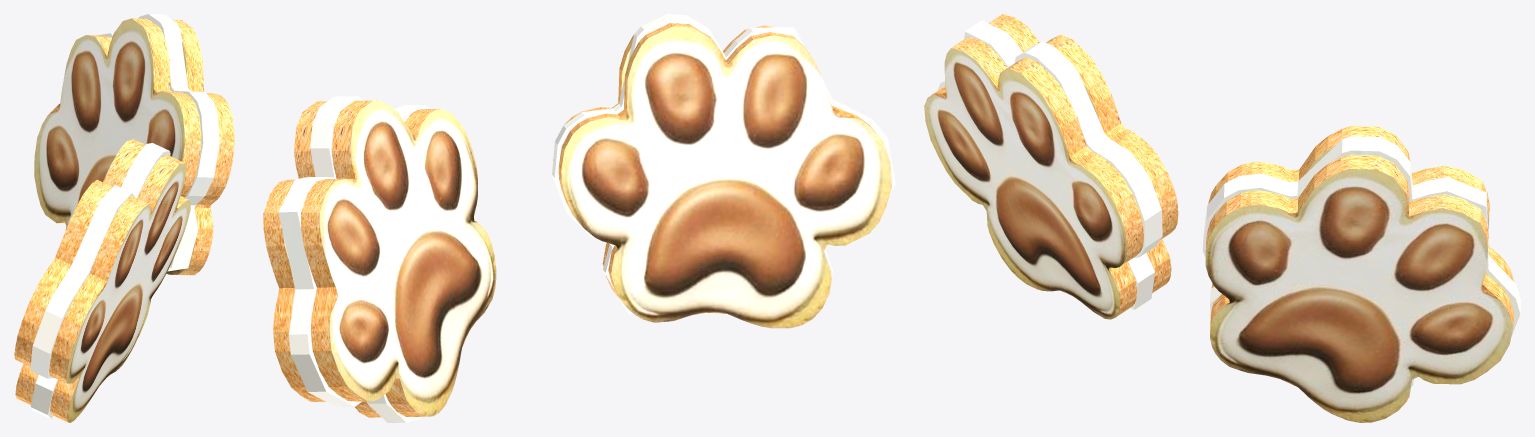
File: rewardS1.glb
3 views of the same model, side by side, from view 1: azimuth 30°, elevation 25°; view 2: azimuth 150°, elevation 25°; view 3: azimuth 270°, elevation 25° (orthographic). The views are drawn at different scales.
Parts seen in each view (by area): view 1: CutterForACause; view 2: CutterForACause; view 3: CutterForACause.
Boxes of the visible parts, x1=… form: CutterForACause: x1=14, y1=14, x2=234, y2=422; CutterForACause: x1=263, y1=14, x2=895, y2=422; CutterForACause: x1=924, y1=14, x2=1520, y2=422.
Size of what is drawn, in the model's own units: 1.16 by 0.9001 by 1.55.
Materials: 2 (2 with a texture image).
